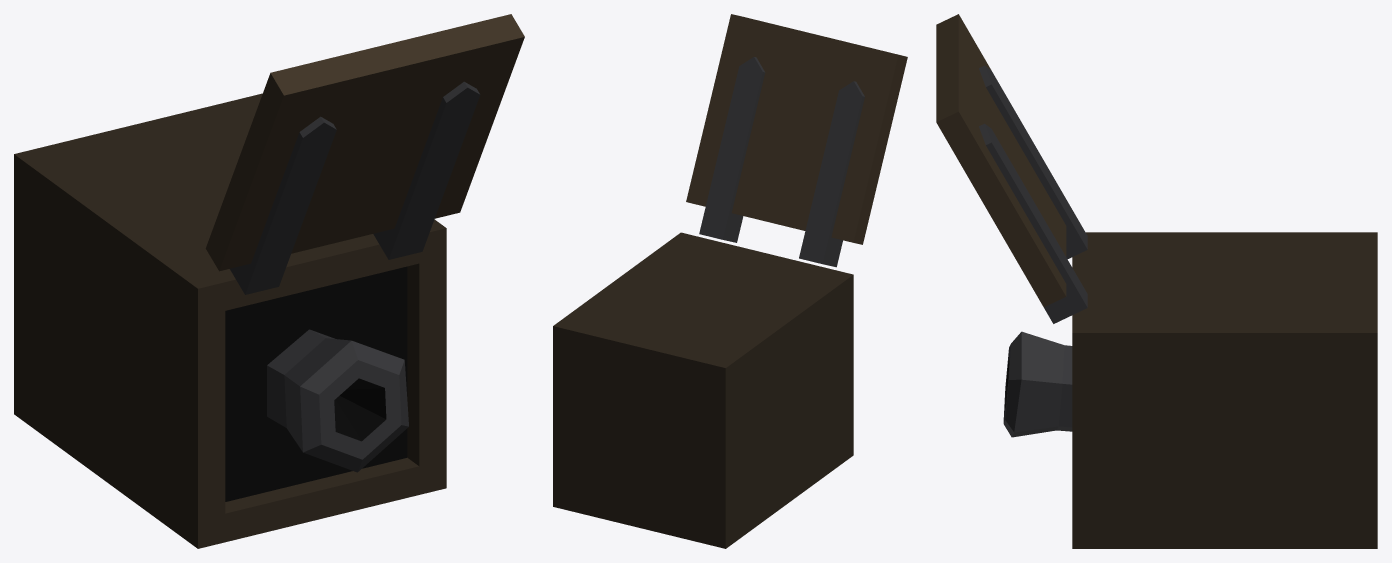
Rendered from SM_Veh_Extra_Gun_01_Pirate.glb.
The picture shows the model from 3 angles, left to right: view 1: azimuth 30°, elevation 25°; view 2: azimuth 150°, elevation 25°; view 3: azimuth 270°, elevation 25°; orthographic projection. The views are drawn at different scales.
Parts seen in each view (by area): view 1: SM_Veh_Extra_Gun_01_Barrel_Pirate; view 2: SM_Veh_Extra_Gun_01_Barrel_Pirate; view 3: SM_Veh_Extra_Gun_01_Barrel_Pirate.
Part boxes in pixels (x1,y1,x2,y2): SM_Veh_Extra_Gun_01_Barrel_Pirate: (14, 14, 524, 548); SM_Veh_Extra_Gun_01_Barrel_Pirate: (553, 14, 907, 548); SM_Veh_Extra_Gun_01_Barrel_Pirate: (936, 14, 1377, 548).
Bounding box in the file's own units: 0.0086 × 0.0174 × 0.0159.
